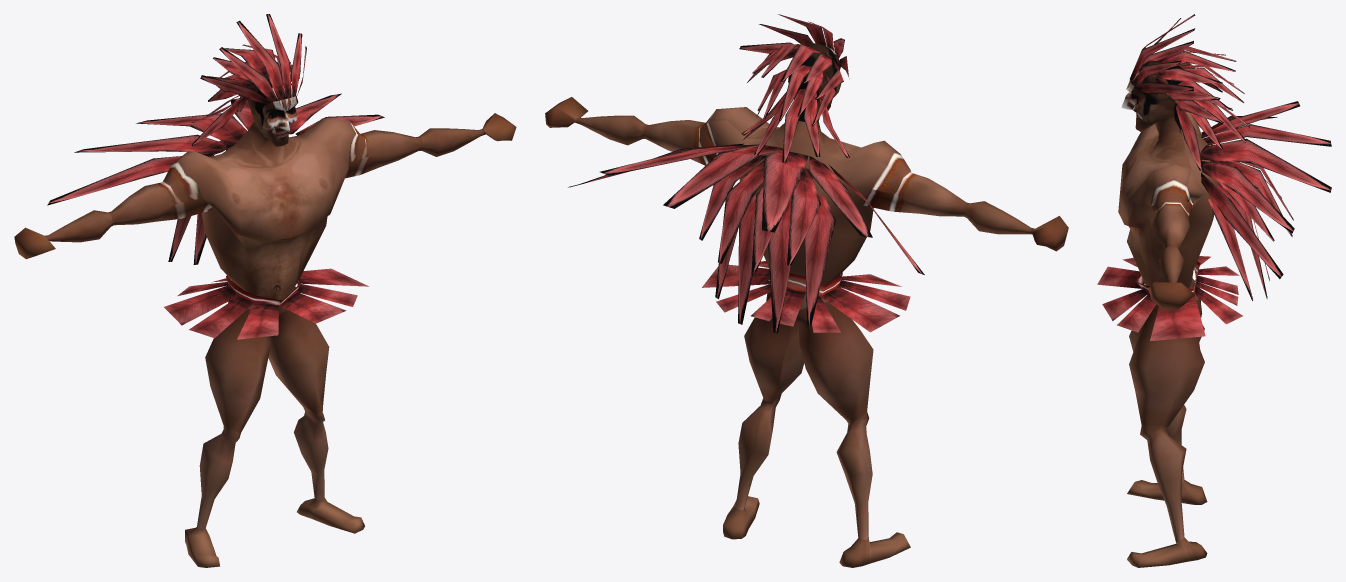
Rendered from hunter.gltf.
The picture shows the model from 3 angles, left to right: view 1: azimuth 30°, elevation 25°; view 2: azimuth 150°, elevation 25°; view 3: azimuth 270°, elevation 25°; orthographic projection. The views are drawn at different scales.
Parts seen in each view (by area): view 1: bingying; view 2: bingying; view 3: bingying.
Boxes of the visible parts, x1,y1,x2,y2 form: bingying: (14,14,516,567); bingying: (545,14,1068,567); bingying: (1097,14,1331,567).
Size of the model in its own units: 133 by 132 by 55.38.
1 material, 1 textured.
